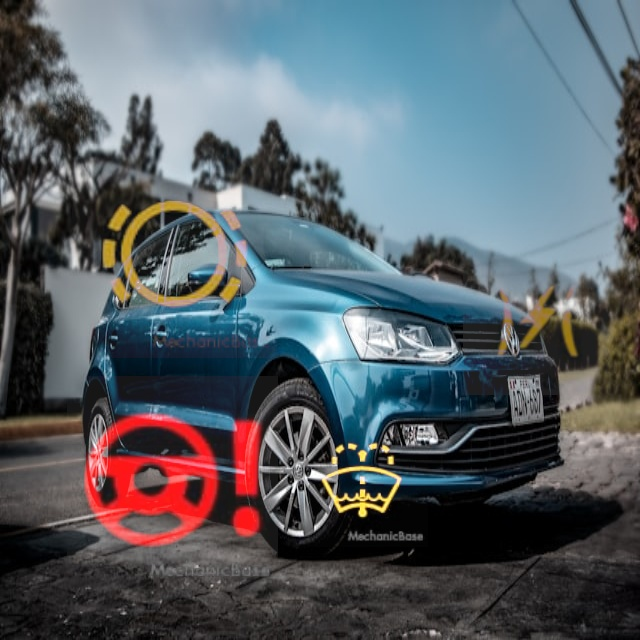symbol: (67, 376, 278, 587), (72, 153, 277, 358), (463, 246, 612, 395), (297, 416, 428, 547)
